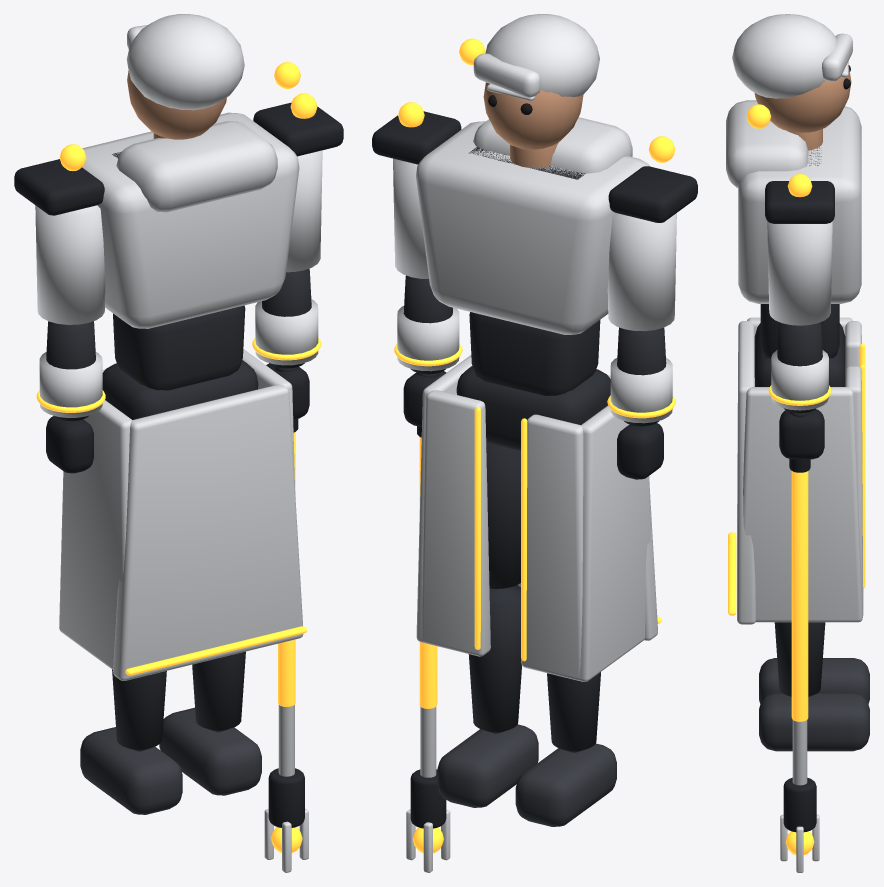
Rendered from lumen.glb.
The picture shows the model from 3 angles, left to right: view 1: azimuth 30°, elevation 25°; view 2: azimuth 150°, elevation 25°; view 3: azimuth 270°, elevation 25°; orthographic projection. The views are drawn at different scales.
Visible parts, largest first — view 1: CoatBack, CoatTop, CoatL, Hood, HairCap, Waist, Sleeve0, Boot0, Boot1, Pelvis, Shin0, ShoulderPad0 (+15 smaller); view 2: CoatTop, CoatFR, CoatL, CoatFL, Waist, Sleeve0, HairCap, Boot0, Boot1, Shin1, Pelvis, Thigh1 (+21 smaller); view 3: CoatR, CoatTop, HairCap, Sleeve1, Boot1, RodGlow, Hood, CoatBack, Head, ShoulderPad1, Cuff1, Boot0 (+21 smaller).
Boxes of the visible parts, x1=… form: CoatBack: x1=113, y1=384, x2=303, y2=680; CoatTop: x1=82, y1=112, x2=299, y2=328; CoatL: x1=59, y1=400, x2=131, y2=669; Hood: x1=116, y1=121, x2=277, y2=212; HairCap: x1=126, y1=14, x2=244, y2=110; Waist: x1=113, y1=305, x2=245, y2=390; Sleeve0: x1=35, y1=205, x2=105, y2=324; Boot0: x1=80, y1=727, x2=182, y2=814; Boot1: x1=159, y1=707, x2=261, y2=795; Pelvis: x1=102, y1=360, x2=258, y2=419; Shin0: x1=112, y1=669, x2=166, y2=751; ShoulderPad0: x1=14, y1=159, x2=104, y2=215; CoatTop: x1=416, y1=121, x2=650, y2=334; CoatFR: x1=421, y1=390, x2=490, y2=656; CoatL: x1=579, y1=405, x2=650, y2=681; CoatFL: x1=521, y1=414, x2=583, y2=680; Waist: x1=469, y1=312, x2=600, y2=395; Sleeve0: x1=607, y1=213, x2=676, y2=331; HairCap: x1=485, y1=14, x2=599, y2=96; Boot0: x1=515, y1=743, x2=616, y2=826; Boot1: x1=437, y1=724, x2=538, y2=807; Shin1: x1=468, y1=585, x2=521, y2=733; Pelvis: x1=456, y1=366, x2=610, y2=450; Thigh1: x1=486, y1=442, x2=520, y2=588; CoatR: x1=743, y1=387, x2=862, y2=622; CoatTop: x1=738, y1=106, x2=861, y2=303; HairCap: x1=732, y1=14, x2=837, y2=98; Sleeve1: x1=767, y1=221, x2=832, y2=325; Boot1: x1=759, y1=693, x2=869, y2=751; RodGlow: x1=791, y1=471, x2=808, y2=721; Hood: x1=726, y1=100, x2=808, y2=187; CoatBack: x1=737, y1=321, x2=756, y2=624; Head: x1=754, y1=67, x2=851, y2=132; ShoulderPad1: x1=765, y1=181, x2=834, y2=223; Cuff1: x1=771, y1=350, x2=828, y2=410; Boot0: x1=759, y1=658, x2=869, y2=703.
Size of the model in its own units: 0.762 by 2.14 by 0.35.
